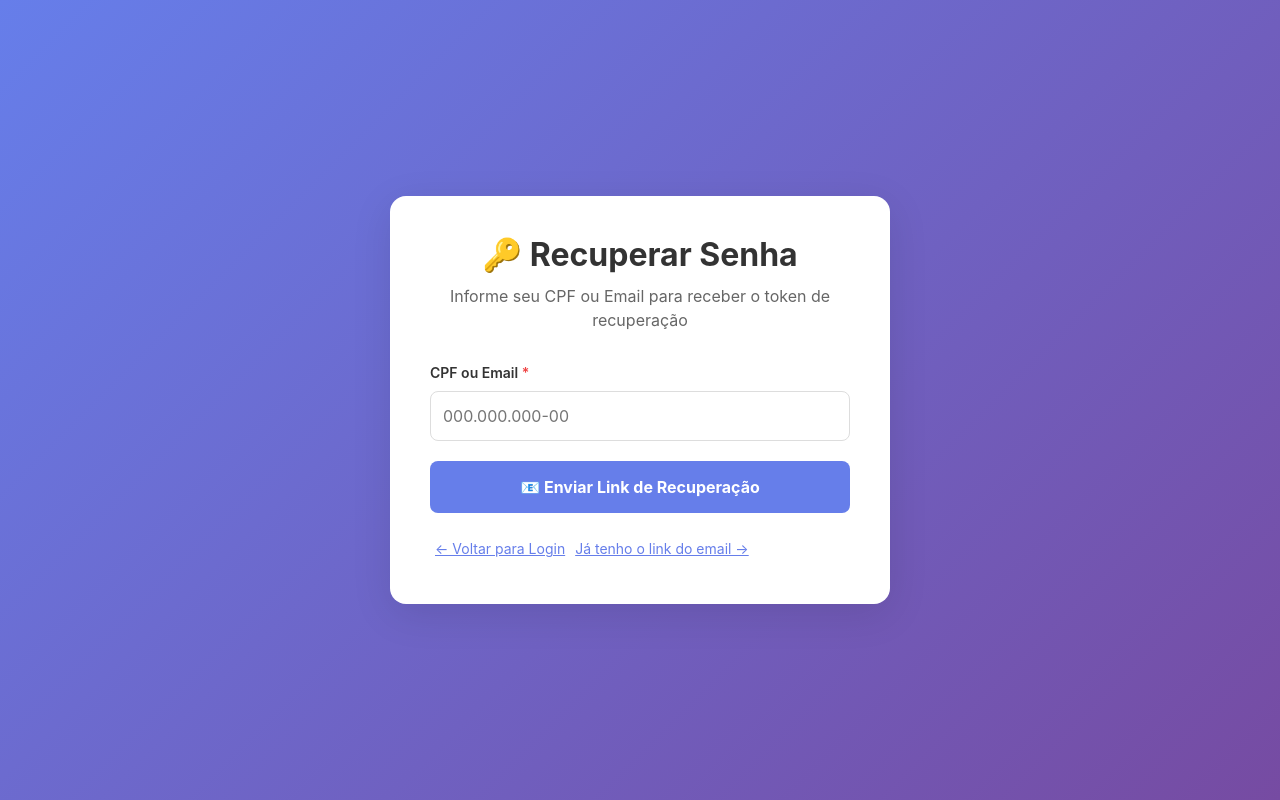
Scenario: ForgotPassword (público) › exibe erro quando CPF/Email não está cadastrado
Type "123.456.789-09" into the field with placeholder "000.000.000-00" at (640, 416), box [430,391,850,441]
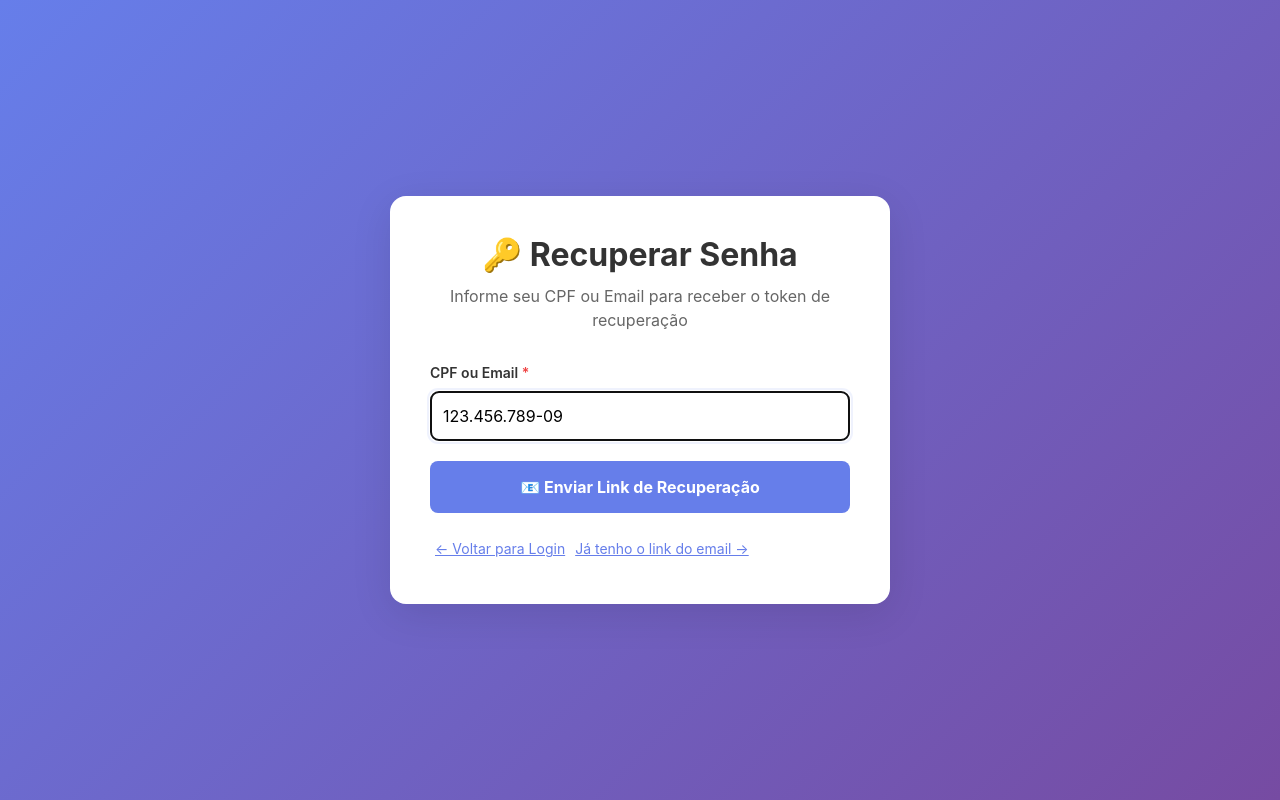
Click the button "📧 Enviar Link de Recuperação" at (640, 487), box [430,461,850,513]
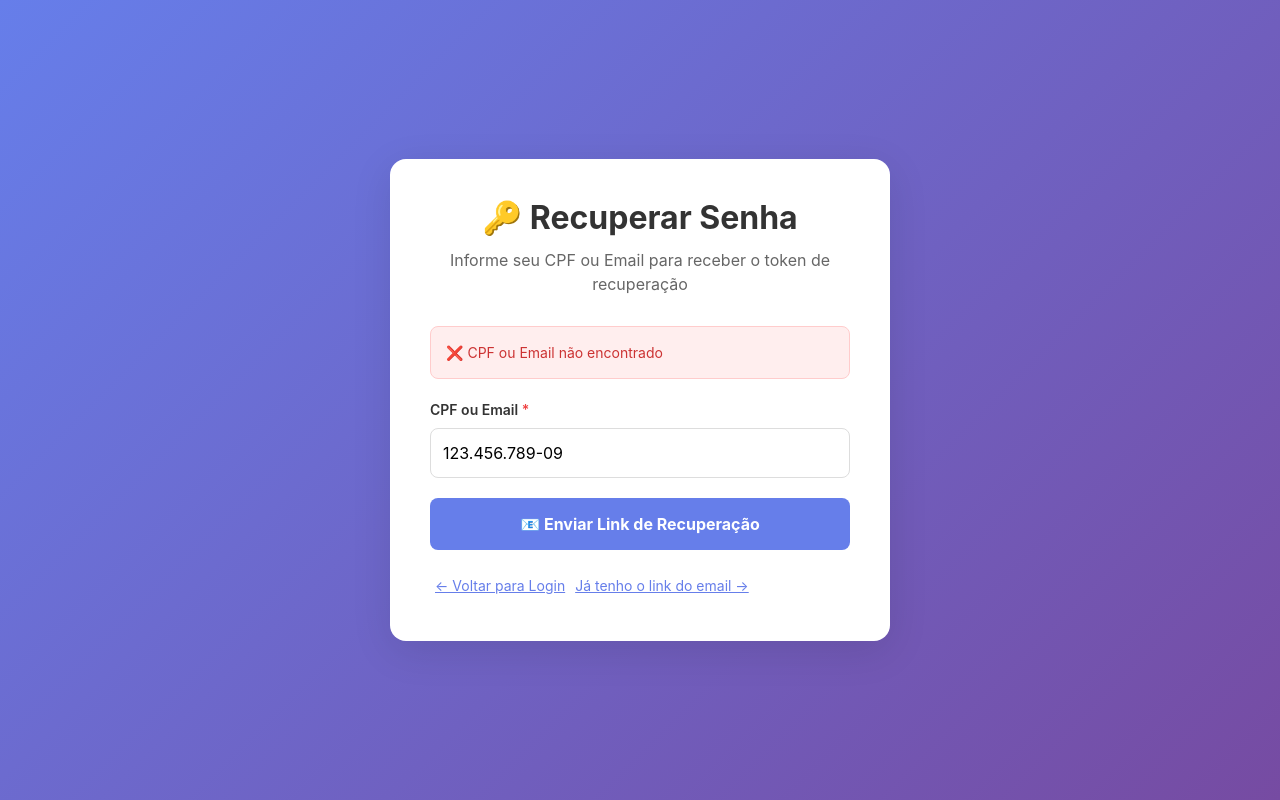
Expected: the text "❌ CPF ou Email não encontrado" is shown, [430,326,850,379]
